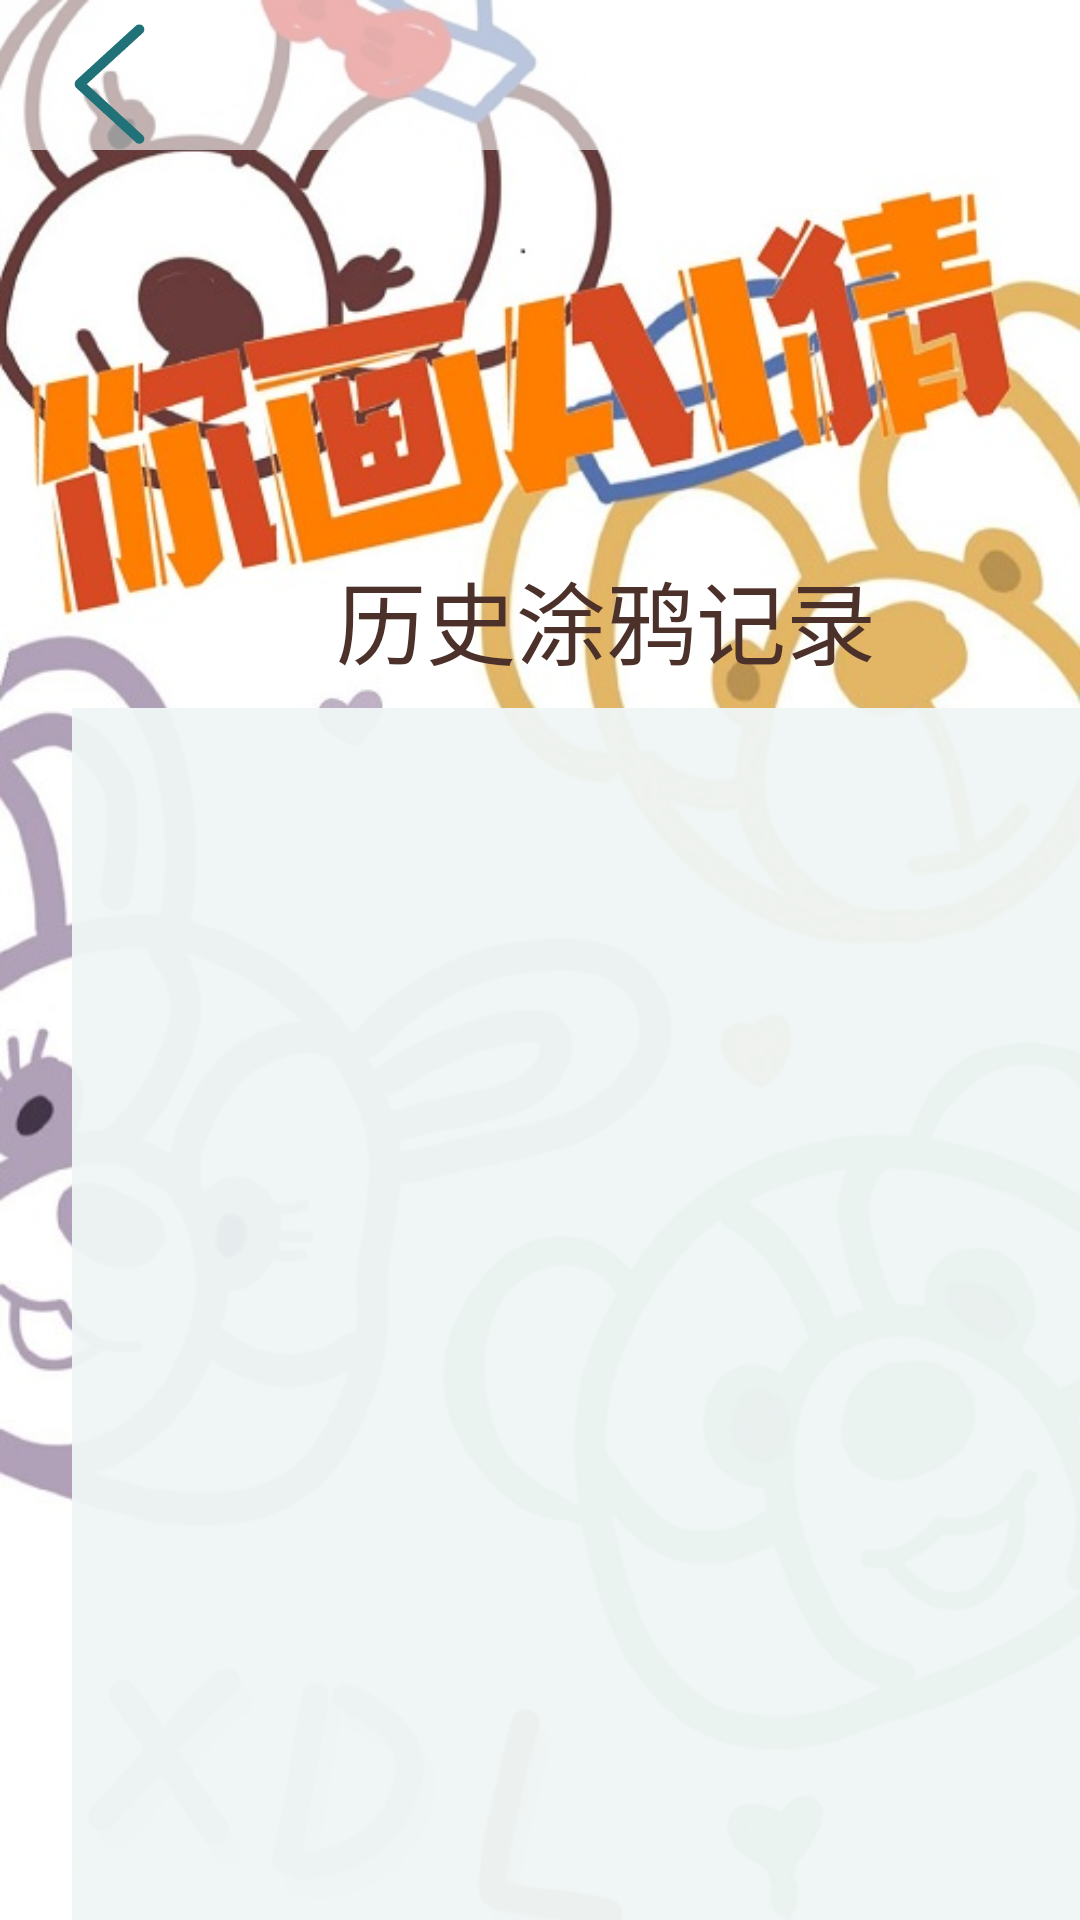

Named icons in this screenshot (1080 × 1920) and their centers, (x=x, y=y):
iconfontback: (x=108, y=84)
